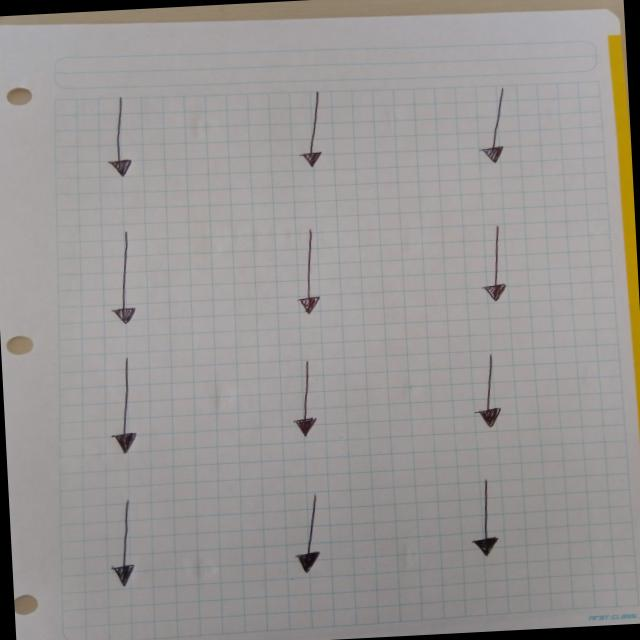arrow_line_down: (102, 224, 150, 328), (98, 493, 146, 592), (283, 226, 332, 316), (469, 83, 520, 167), (463, 476, 514, 560), (103, 357, 142, 454), (294, 85, 336, 170), (472, 224, 514, 308), (467, 352, 508, 433), (291, 488, 325, 574), (106, 96, 140, 176), (292, 356, 326, 436)
